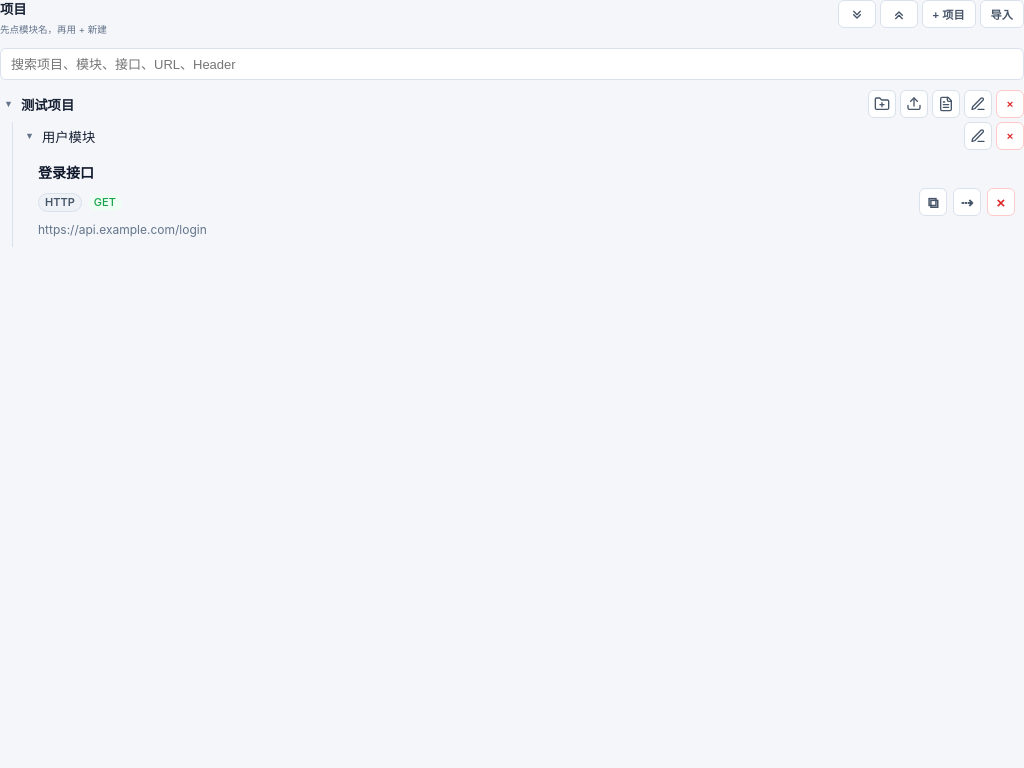
Test: ProjectTreePanel › 按 Escape 关闭删除接口确认弹窗且不删除接口
Expected: the text "登录接口" is shown, 38,162 -> 94,183
Click the button named "删除接口": (1001,202) 987,188 -> 1015,216
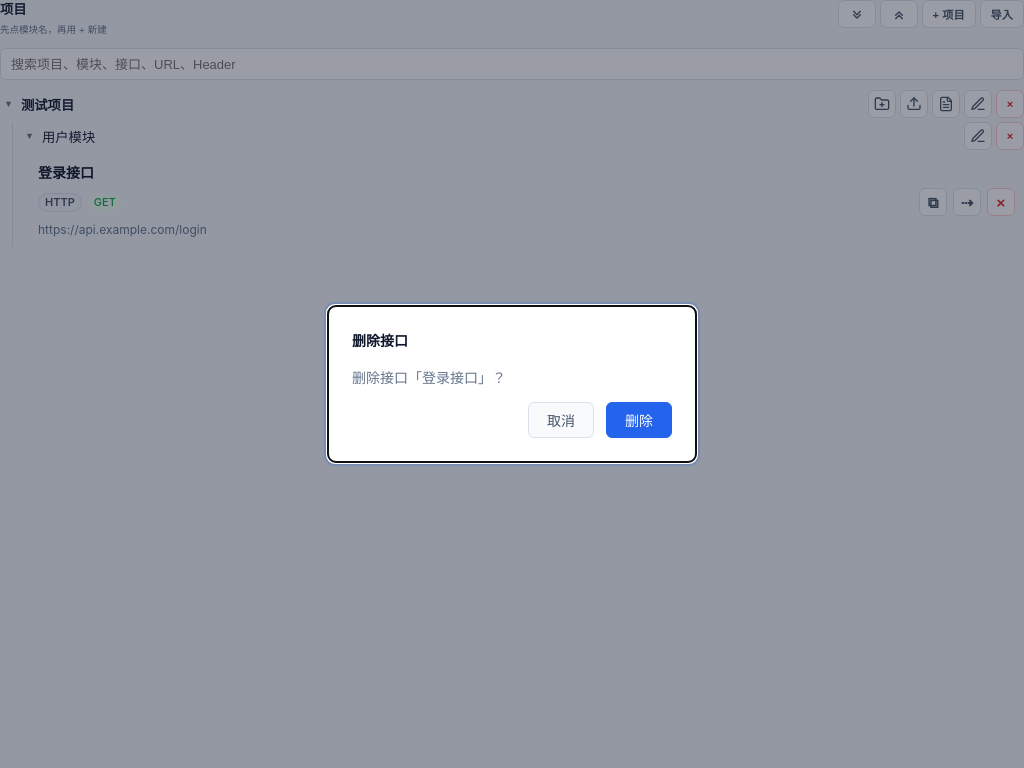
Now the dialog "删除接口" is shown, box 327,305 -> 697,463
Press Escape
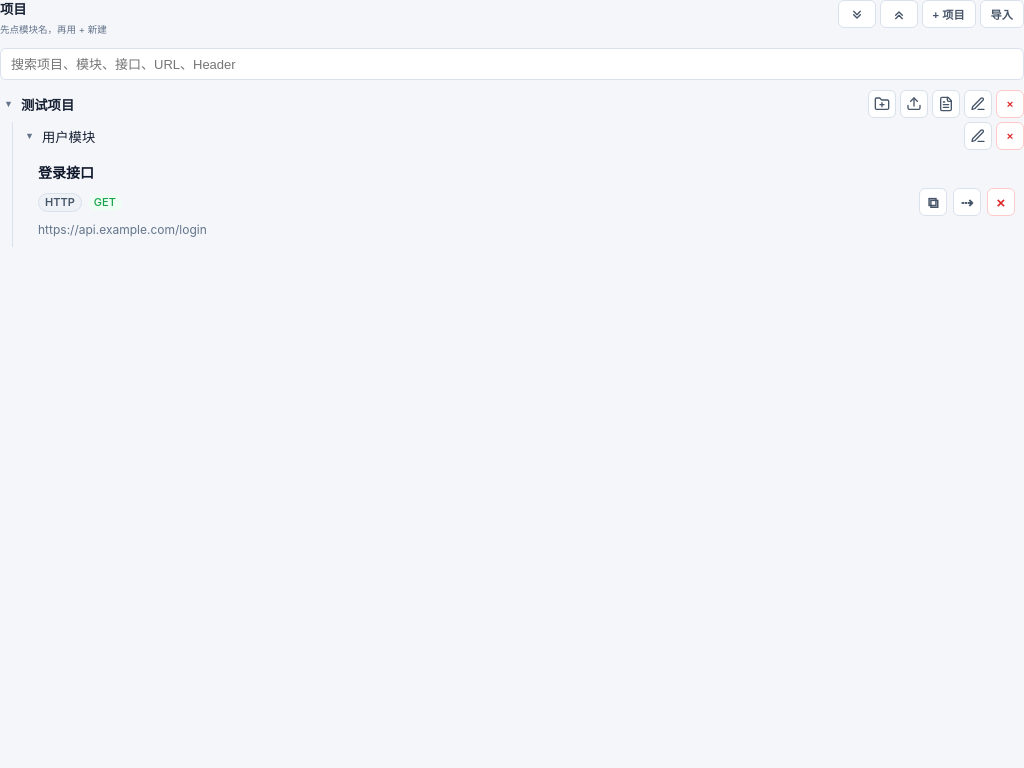
Now the heading "删除接口" is gone
